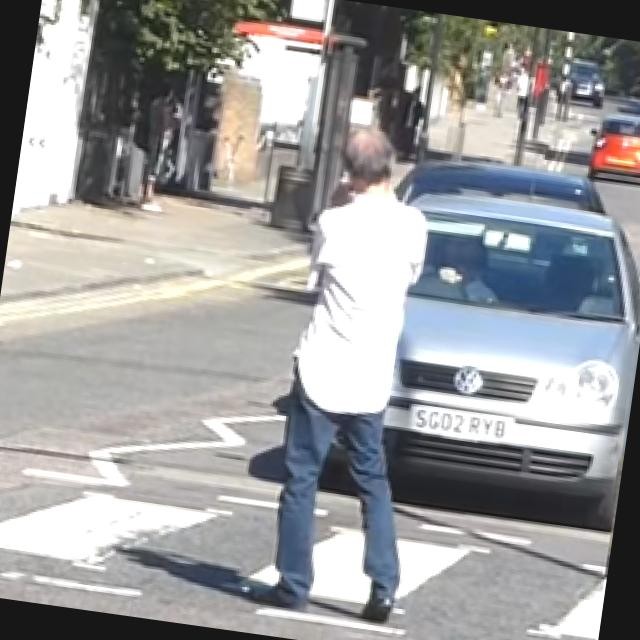person: (257, 121, 463, 623), (131, 86, 185, 214)
